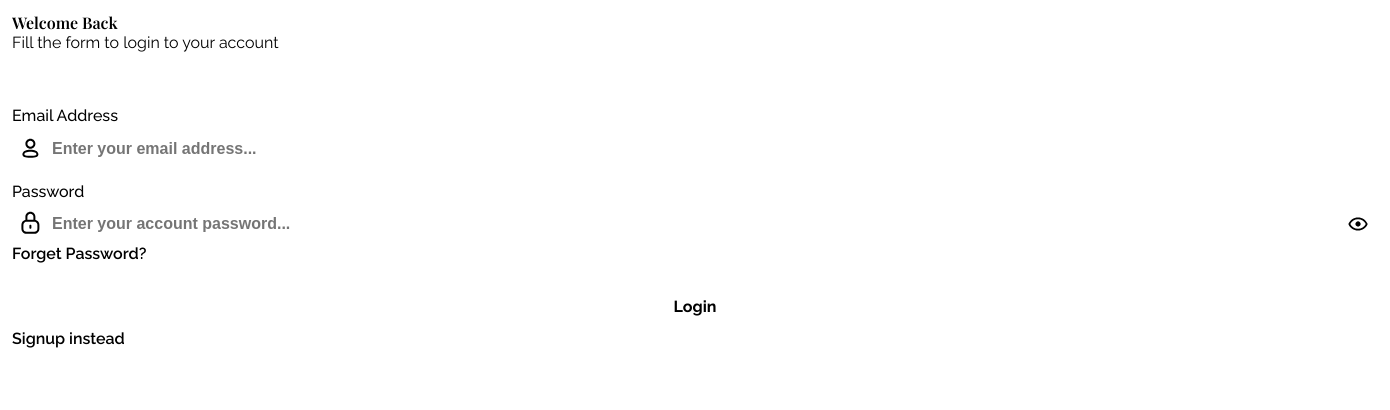
Test: Test Component : Loginform › if email has not a valid form show error
In the password field with test id "loginformPasswordInput": (695, 224) [12,207,1378,241], type "123"
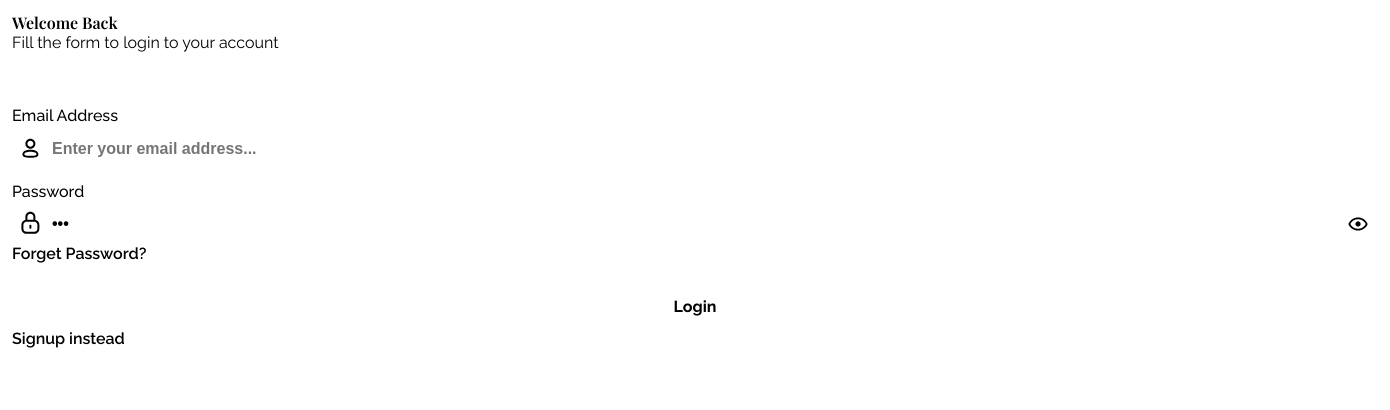
In the field with test id "loginformEmailInput": (695, 149) [12,132,1378,166], type "sdwqd"
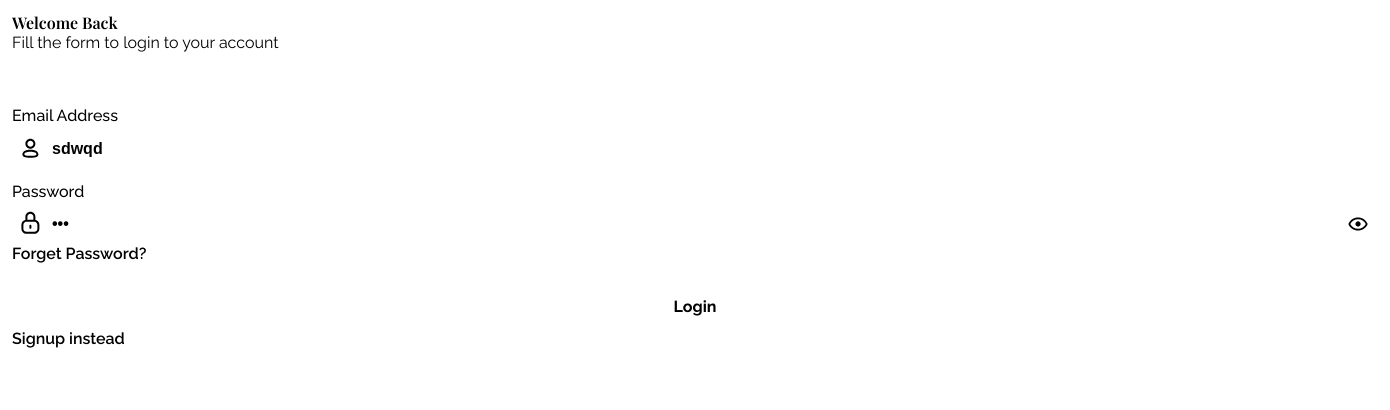
Click the button with test id "loginformLoginButton": (695, 306) [12,290,1378,322]
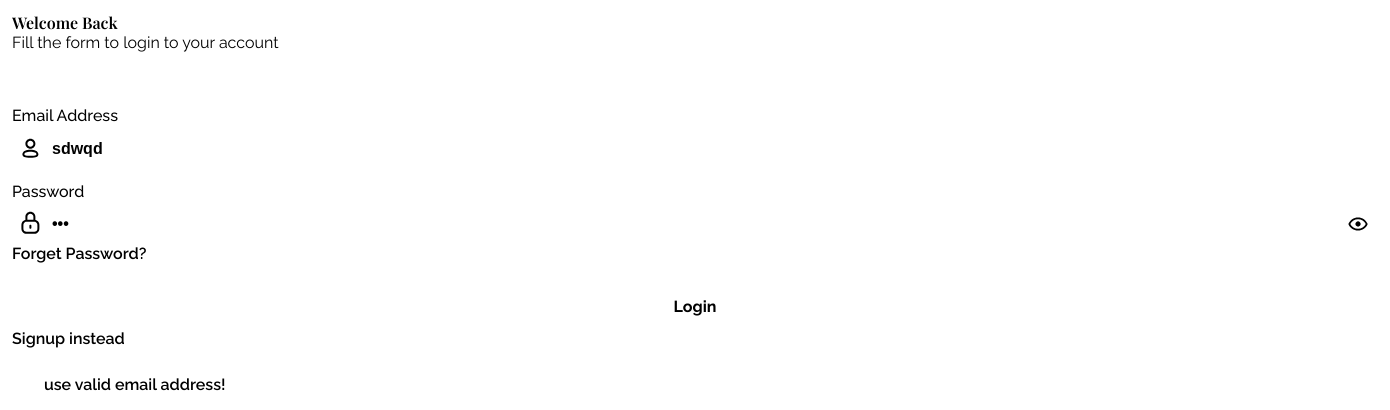
Expected: the element with test id "errorMessage" reads "use valid email address!", [44,375,226,394]
